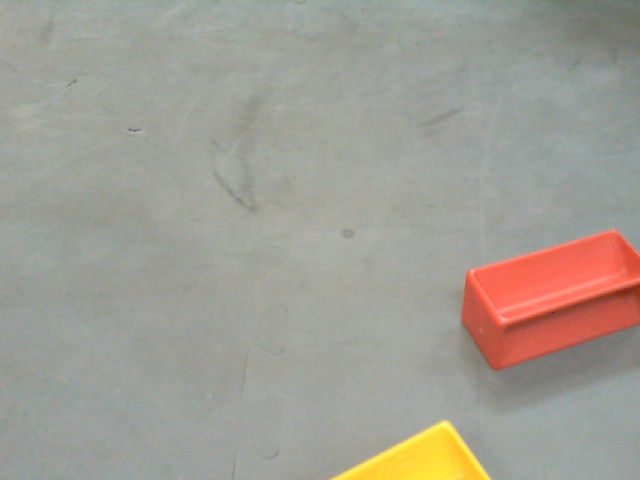RedSample: (463, 230, 640, 367)
YellowSample: (317, 422, 495, 480)
